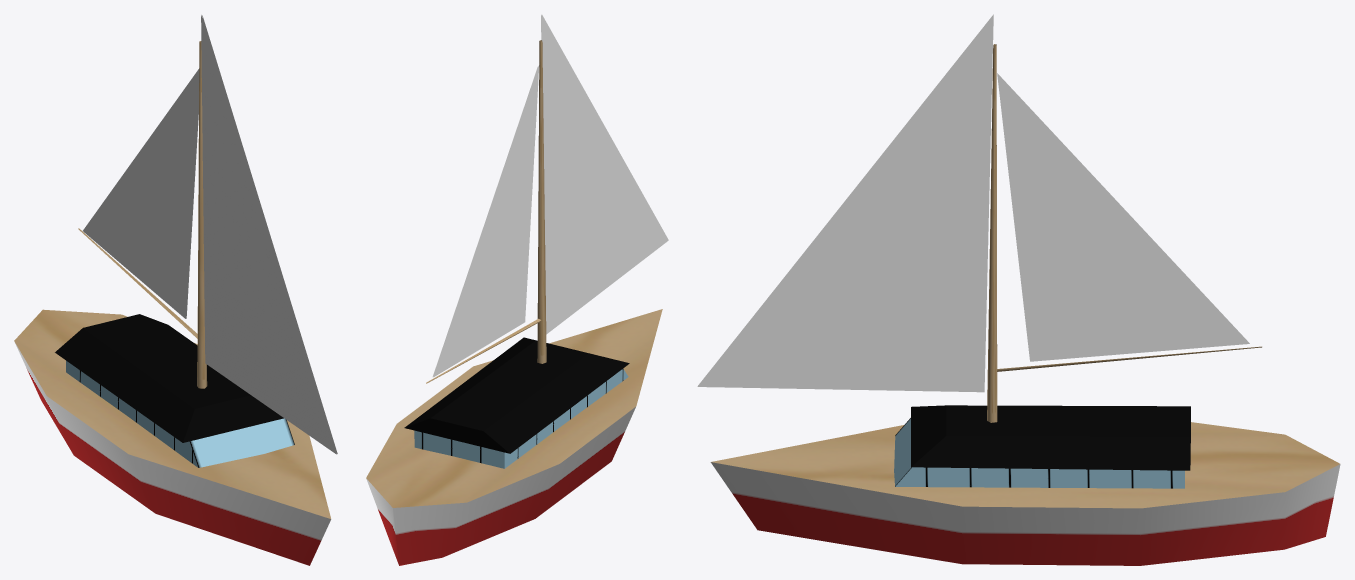
Rendered from ship.fbx.
3 views of the same model, side by side, from view 1: azimuth 30°, elevation 25°; view 2: azimuth 150°, elevation 25°; view 3: azimuth 270°, elevation 25° (orthographic). The views are drawn at different scales.
Parts seen in each view (by area): view 1: sailboat; view 2: sailboat; view 3: sailboat.
Boxes of the visible parts, <box> form: sailboat: <box>14,15,337,565</box>; sailboat: <box>366,14,668,565</box>; sailboat: <box>697,14,1340,565</box>.
Bounding box in the file's own units: 181 × 474 × 529.
